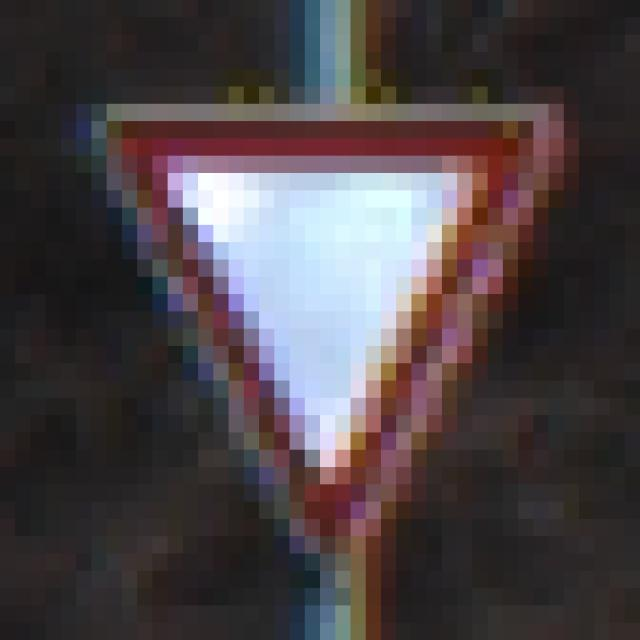Give Way: (77, 88, 565, 555)
